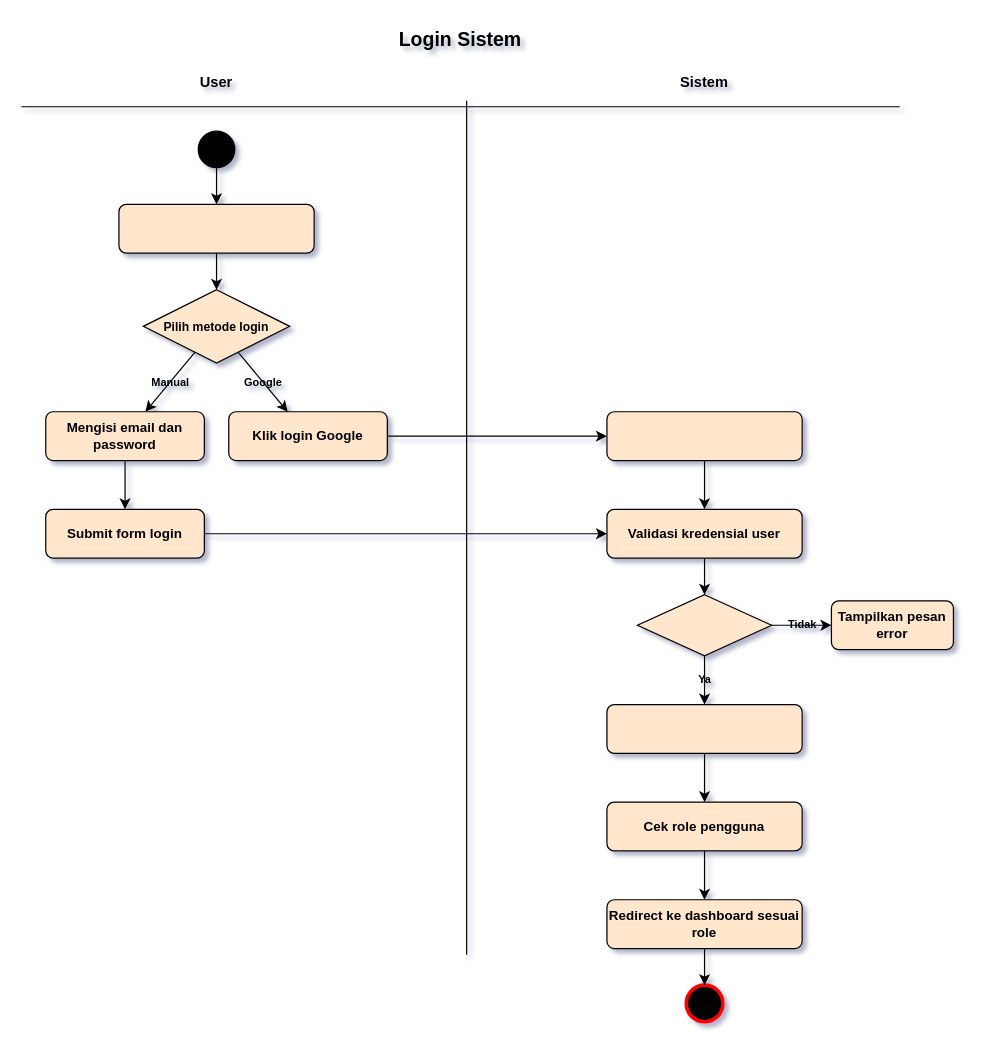
This 982x1052 diagram has some shape labels left out. The centre of each missing label's shape, as x and y in pixels:
"Buat session dan simpan token" belongs at (x=704, y=728).
"Mengakses halaman login" belongs at (x=216, y=228).
"Redirect ke Google OAuth" belongs at (x=704, y=436).
"Valid?" belongs at (x=704, y=625).
